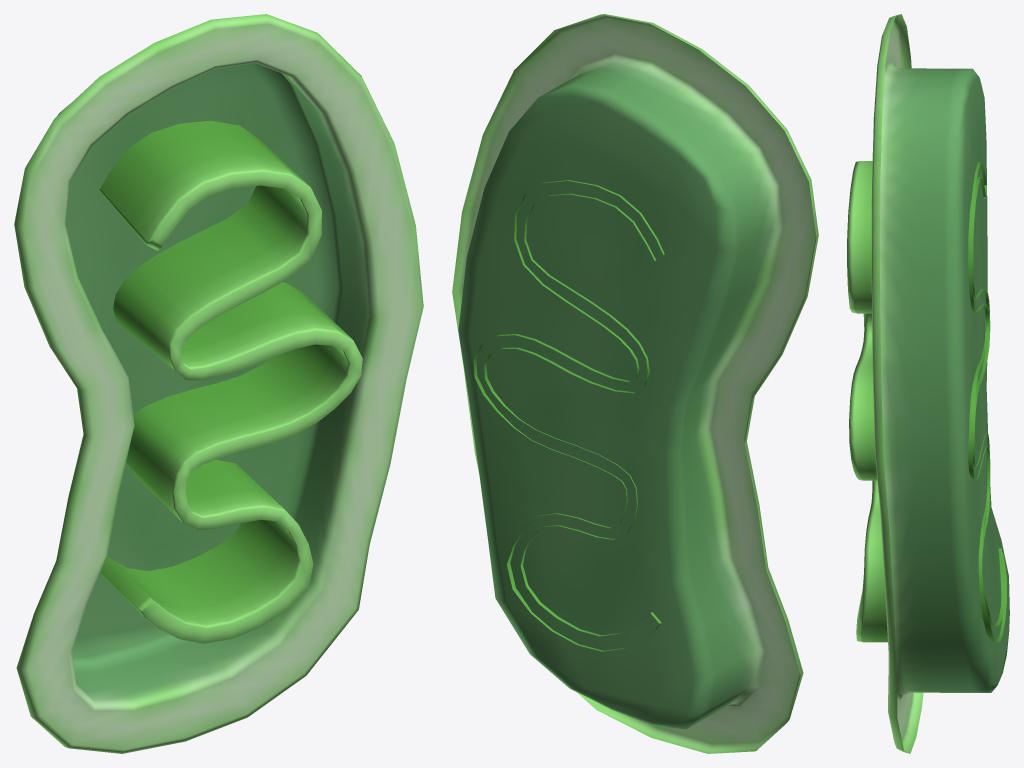
File: AnimalCell-Mitochondria.fbx
The picture shows the model from 3 angles, left to right: view 1: azimuth 30°, elevation 25°; view 2: azimuth 150°, elevation 25°; view 3: azimuth 270°, elevation 25°; orthographic projection. The views are drawn at different scales.
Parts seen in each view (by area): view 1: polySurface393; view 2: polySurface393; view 3: polySurface393.
Boxes of the visible parts, x1=… form: polySurface393: x1=14, y1=14, x2=423, y2=753; polySurface393: x1=452, y1=14, x2=818, y2=753; polySurface393: x1=847, y1=14, x2=1009, y2=753.
Bounding box in the file's own units: 1.76 × 3.12 × 0.6441.
1 material, 1 textured.
